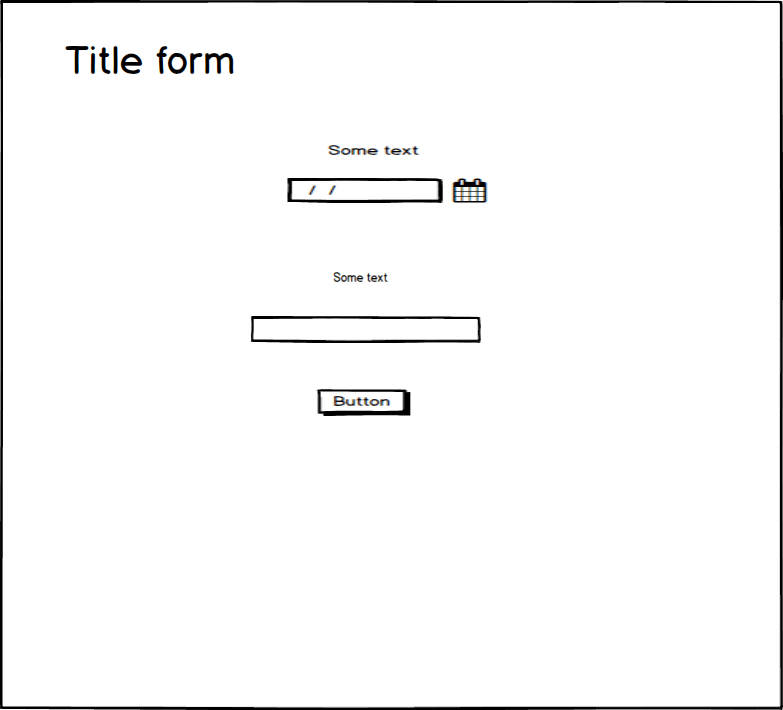button: (312, 382, 416, 424)
date_picker: (278, 171, 497, 212)
h1: (59, 37, 240, 82)
input: (247, 311, 490, 347)
label: (326, 265, 396, 286)
